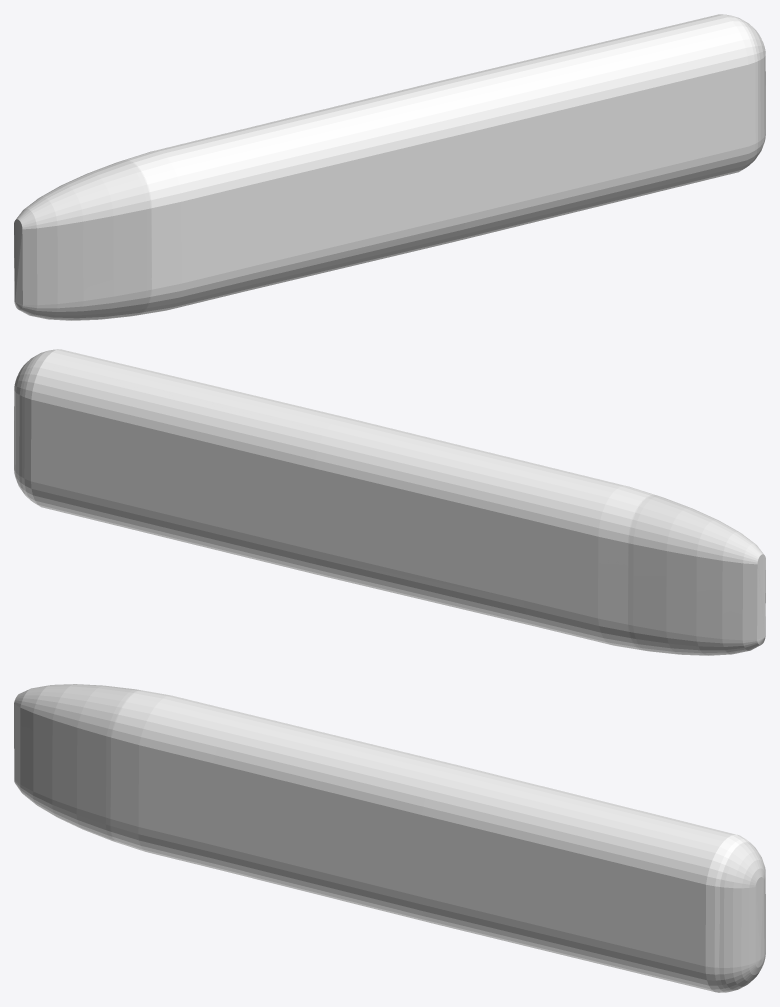
3 renders of one model, top to bottom at view 1: azimuth 30°, elevation 25°; view 2: azimuth 150°, elevation 25°; view 3: azimuth 330°, elevation 25°, orthographic.
Parts seen in each view (by area): view 1: 球; view 2: 球; view 3: 球.
Boxes of the visible parts, left/top/right/bottom form: 球: left=14, top=14, right=765, bottom=320; 球: left=14, top=349, right=765, bottom=655; 球: left=14, top=684, right=765, bottom=992.
Size of the model in its own units: 10.11 by 2 by 1.04.
1 material, 1 textured.
